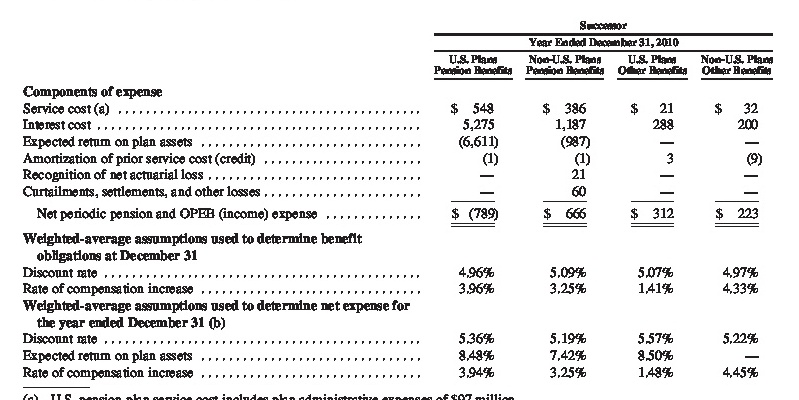table: (0, 0, 799, 400)
